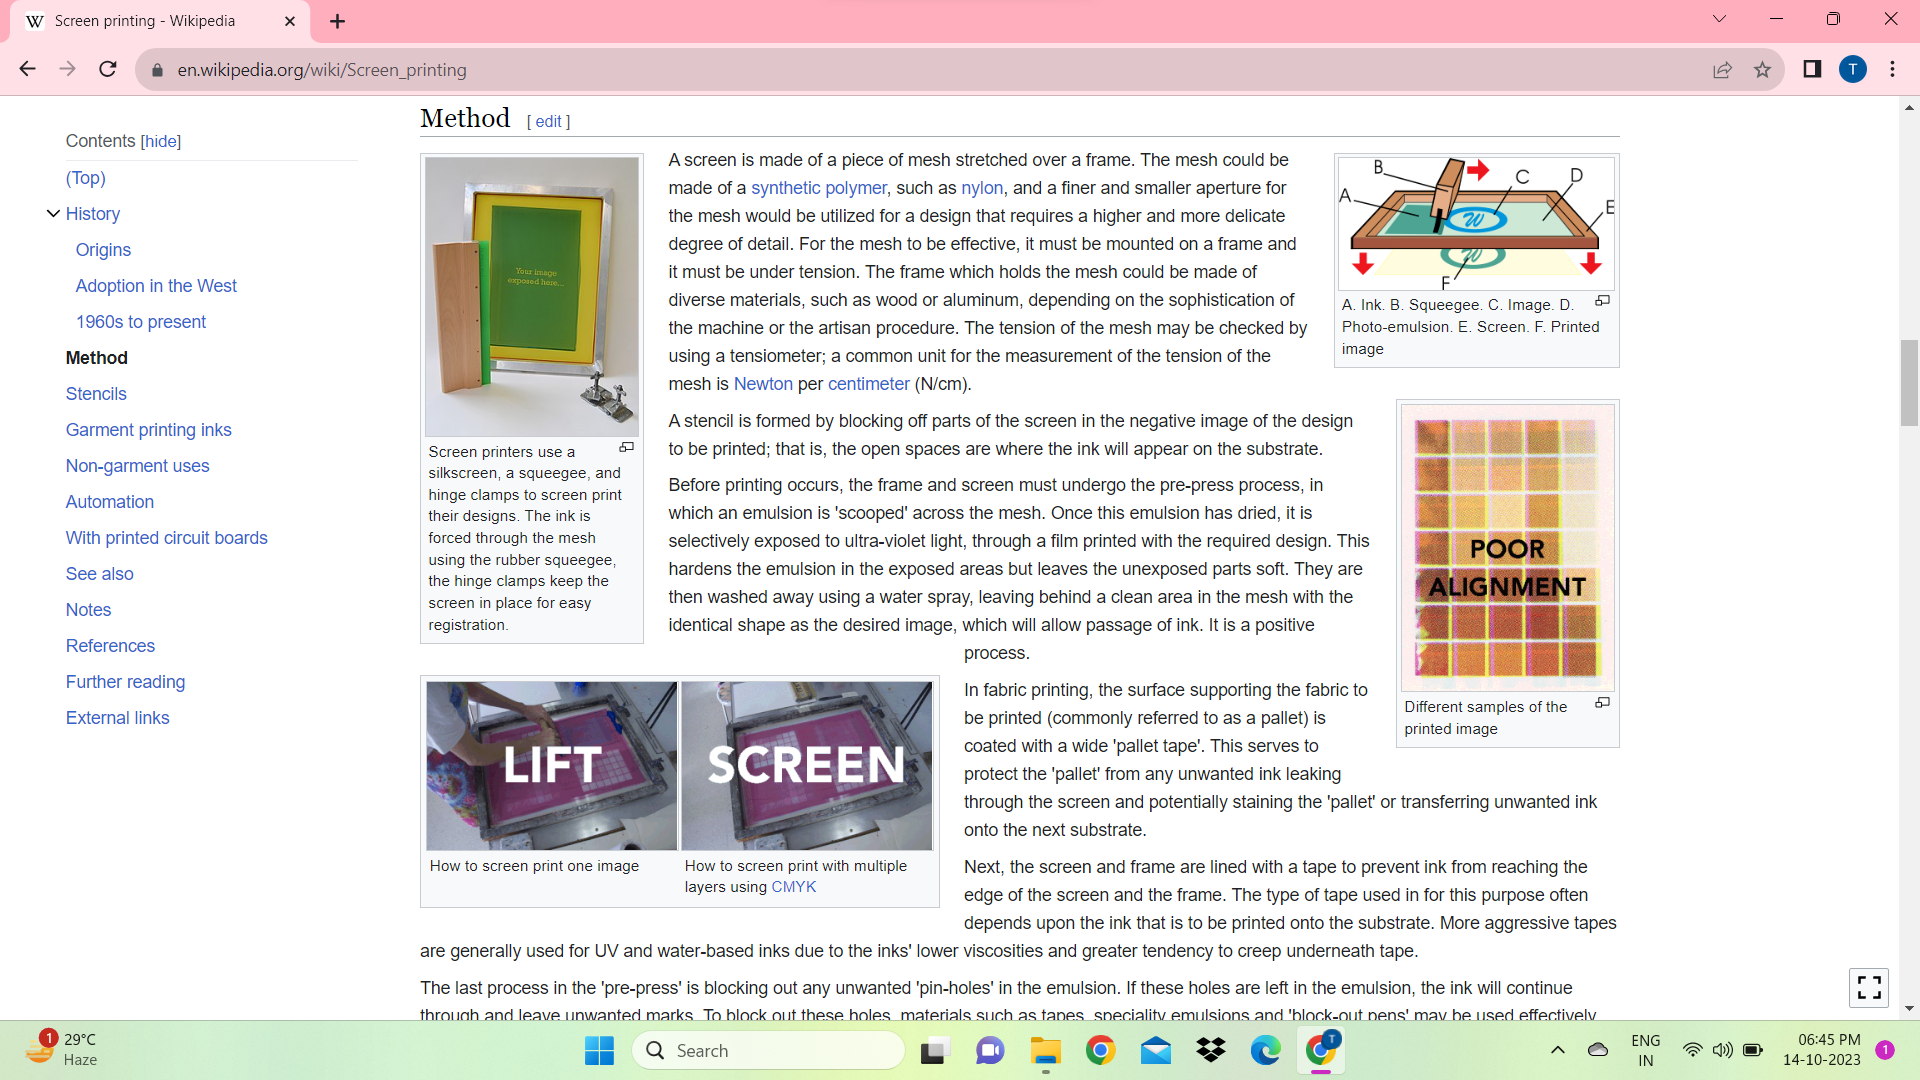Image: (1387, 401, 1627, 695), (414, 145, 641, 435), (407, 662, 684, 852), (682, 673, 936, 858), (1324, 153, 1627, 289)
Paragraph: (384, 837, 1622, 1014), (667, 407, 1378, 665), (661, 142, 1313, 401), (956, 673, 1609, 845), (418, 444, 644, 637), (1337, 291, 1621, 376), (1395, 699, 1577, 750), (682, 862, 923, 895), (65, 522, 272, 553), (50, 414, 240, 444), (58, 448, 218, 483), (67, 274, 240, 298), (58, 121, 187, 153), (57, 665, 200, 692), (75, 306, 218, 332), (411, 99, 512, 133), (58, 703, 179, 729), (62, 630, 175, 655), (61, 382, 152, 411), (58, 489, 162, 513), (58, 340, 138, 371), (421, 861, 645, 872), (61, 597, 125, 624), (58, 566, 146, 583), (69, 237, 136, 257), (67, 164, 112, 190), (67, 203, 129, 220)
